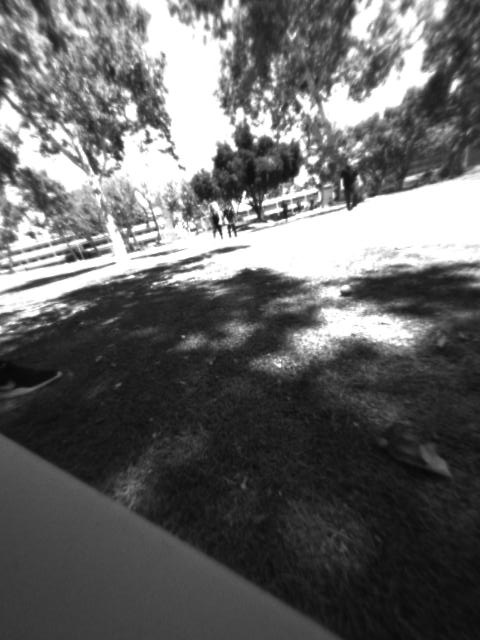dogtoy: (329, 275, 361, 303)
